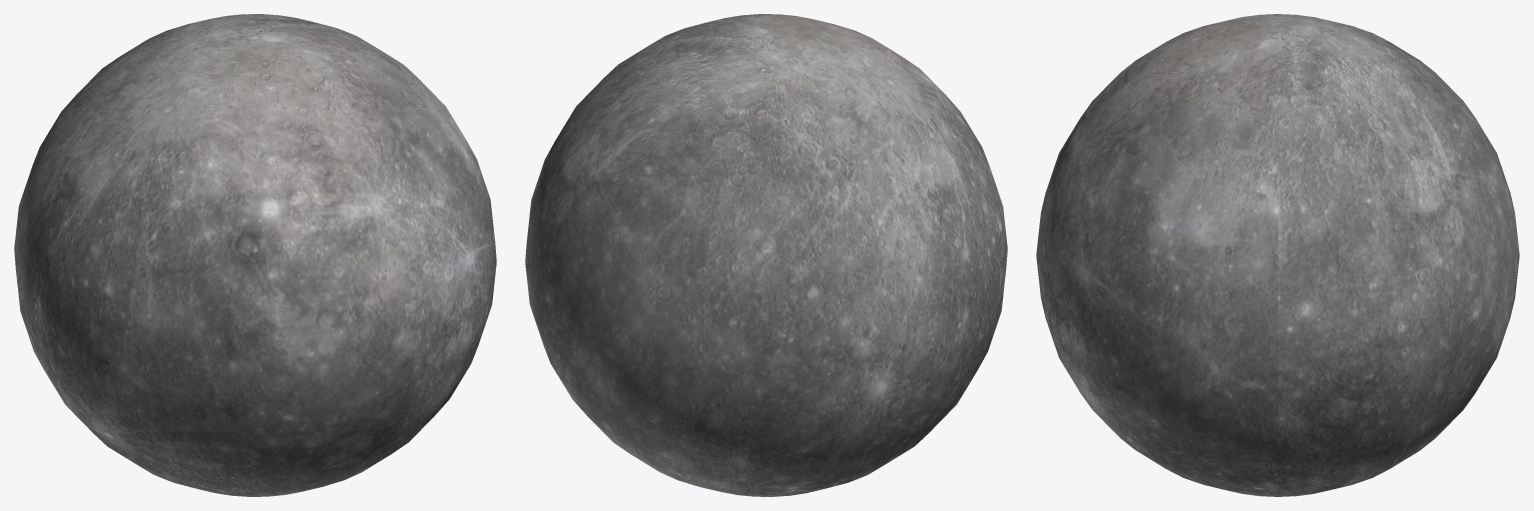
Rendered from Mercury.glb.
The picture shows the model from 3 angles, left to right: view 1: azimuth 30°, elevation 25°; view 2: azimuth 150°, elevation 25°; view 3: azimuth 270°, elevation 25°; orthographic projection.
Visible parts, largest first — view 1: Sphere.025, Sphere.002; view 2: Sphere.002, Sphere.025; view 3: Sphere.002, Sphere.025.
Part boxes in pixels (box(x1,y1,x2,y2)): Sphere.025: box(46, 30, 496, 496); Sphere.002: box(14, 14, 370, 443); Sphere.002: box(525, 30, 975, 496); Sphere.025: box(651, 14, 1007, 443); Sphere.002: box(1278, 14, 1519, 496); Sphere.025: box(1036, 14, 1277, 496).
Size of the model in its own units: 2 by 2 by 2.
5 materials, 5 textured.
